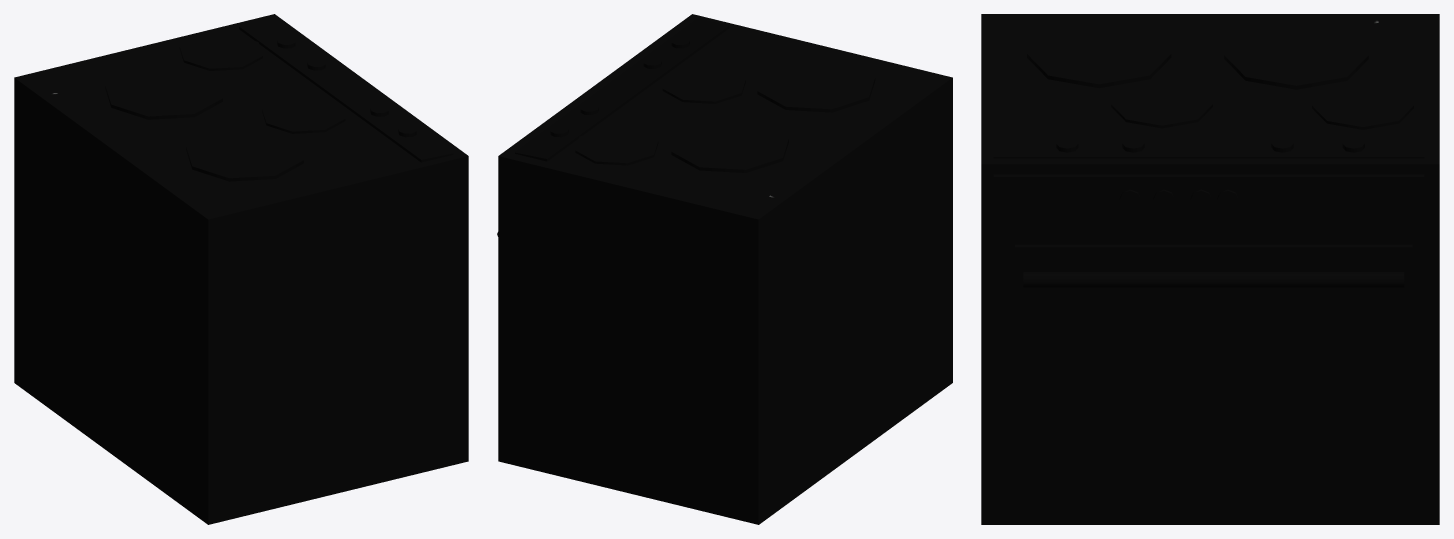
File: Oven.fbx
The picture shows the model from 3 angles, left to right: view 1: azimuth 30°, elevation 25°; view 2: azimuth 150°, elevation 25°; view 3: azimuth 270°, elevation 25°; orthographic projection. The views are drawn at different scales.
Parts seen in each view (by area): view 1: node_id6, node_id9; view 2: node_id6, node_id9; view 3: node_id6, node_id9.
Boxes of the visible parts, x1,y1,x2,y2 form: node_id6: (14,14,468,524); node_id9: (105,33,416,178); node_id6: (498,14,952,524); node_id9: (497,37,874,236); node_id6: (981,14,1439,524); node_id9: (1027,23,1413,210).
Bounding box in the file's own units: 0.4725 × 0.512 × 0.574.
2 materials, 2 textured.
